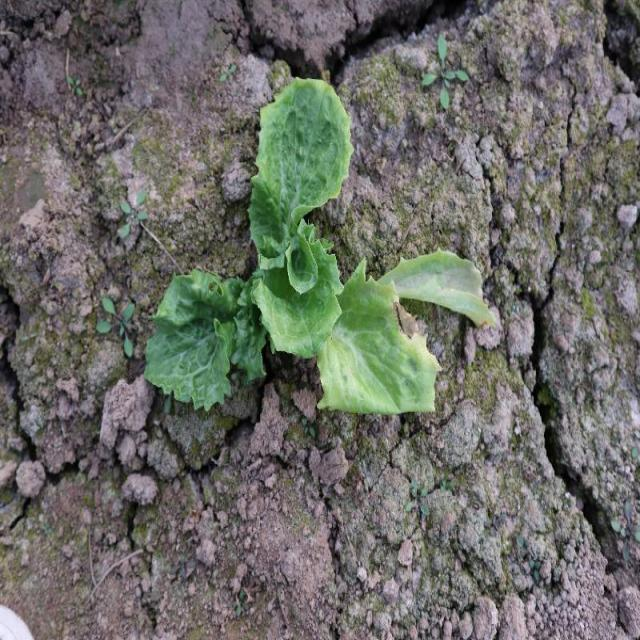crop: (144, 76, 503, 419)
